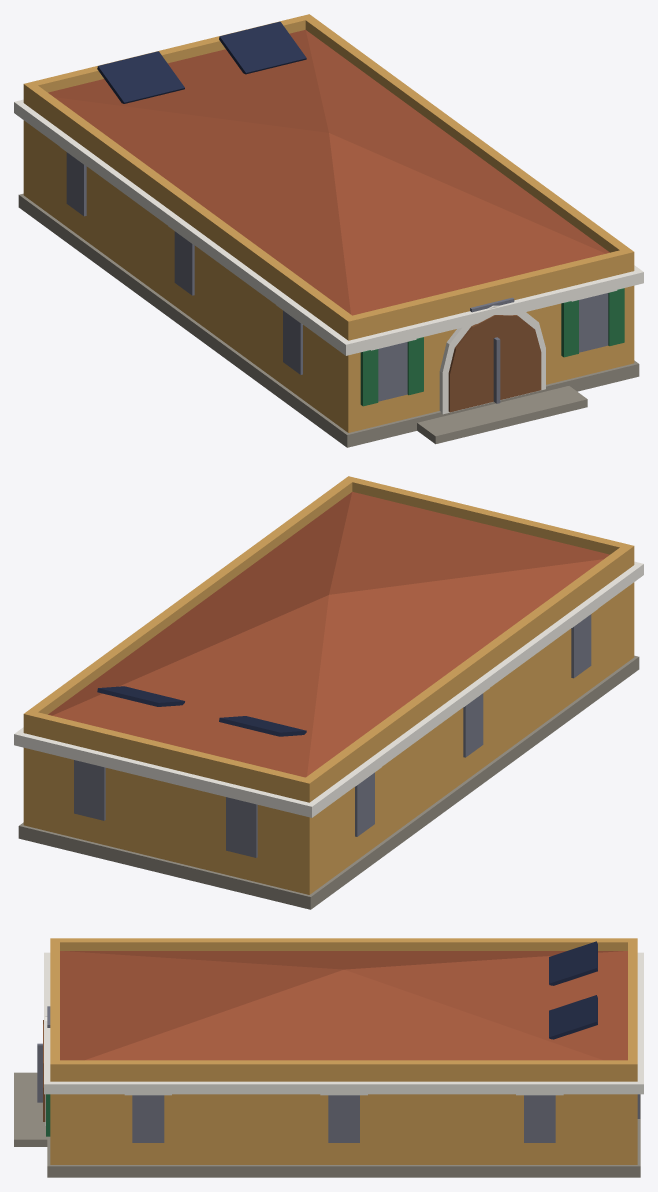
Rendered from house-1x2-1f-colonial-a-solar.glb.
3 views of the same model, one above another, from view 1: azimuth 30°, elevation 25°; view 2: azimuth 150°, elevation 25°; view 3: azimuth 270°, elevation 25° (orthographic). The views are drawn at different scales.
Visible parts, largest first — view 1: house-1x2-1f-colonial-a-solar; view 2: house-1x2-1f-colonial-a-solar; view 3: house-1x2-1f-colonial-a-solar.
Boxes of the visible parts, x1,y1,x2,y2 form: house-1x2-1f-colonial-a-solar: (14,14,643,447); house-1x2-1f-colonial-a-solar: (14,476,643,909); house-1x2-1f-colonial-a-solar: (14,938,643,1177).
Size of the model in its own units: 0.98 by 0.5 by 1.99.
1 material, 1 textured.
